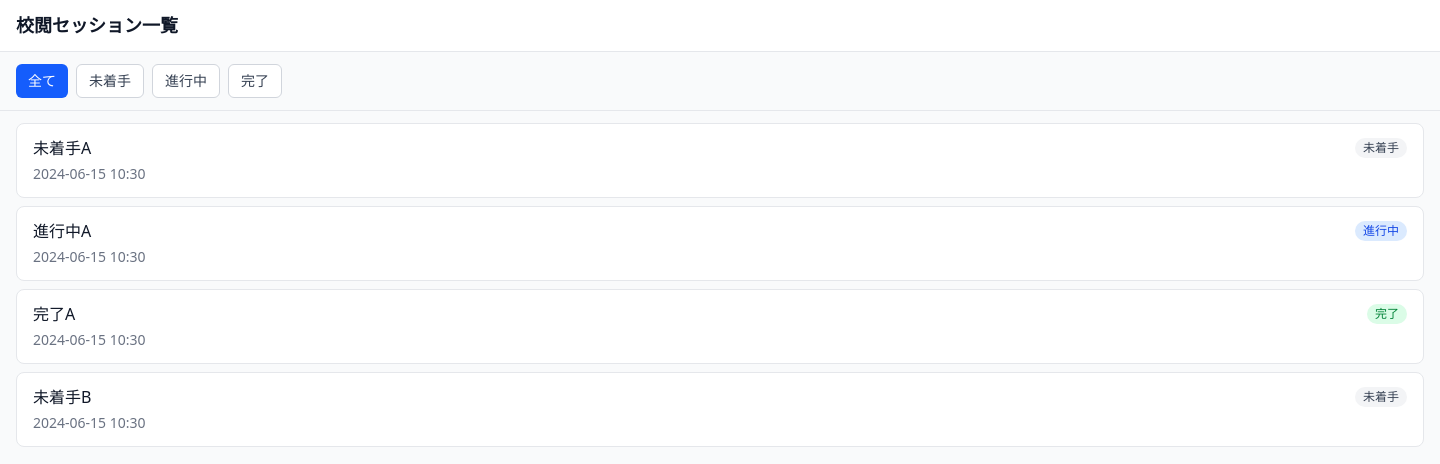
Test: SessionListPage › filtering (uncontrolled fallback — assigned/joinable) › filters by PENDING status locally
Click the tab "未着手": (110, 81) [76, 64, 144, 98]
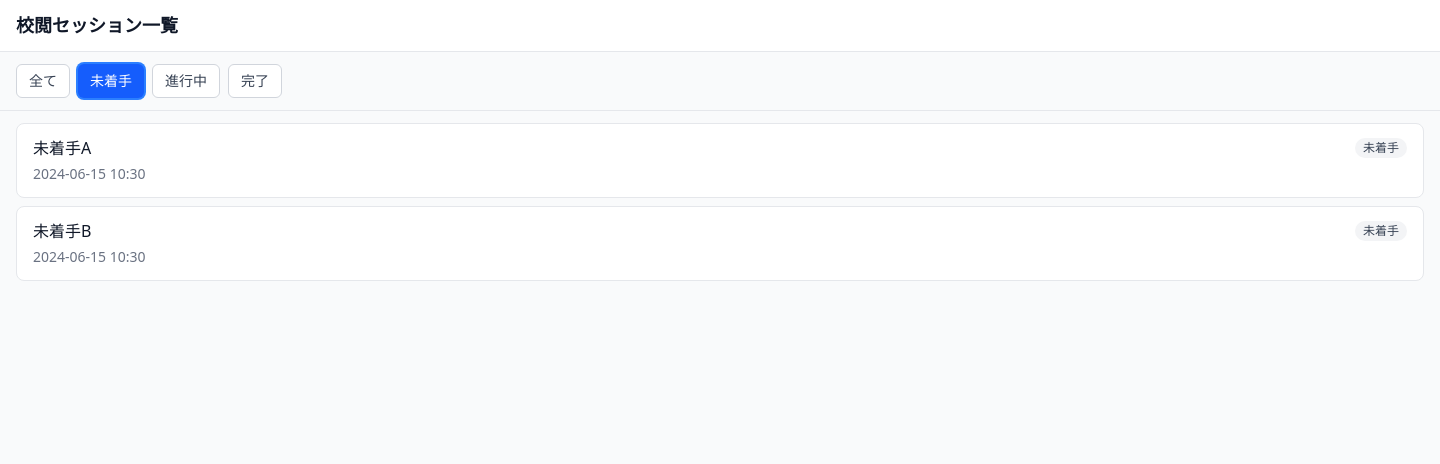
Expected: the text "未着手A" is shown, [33, 136, 91, 160]
Result: the button "進行中A" is gone
Result: the button "完了A" is gone
